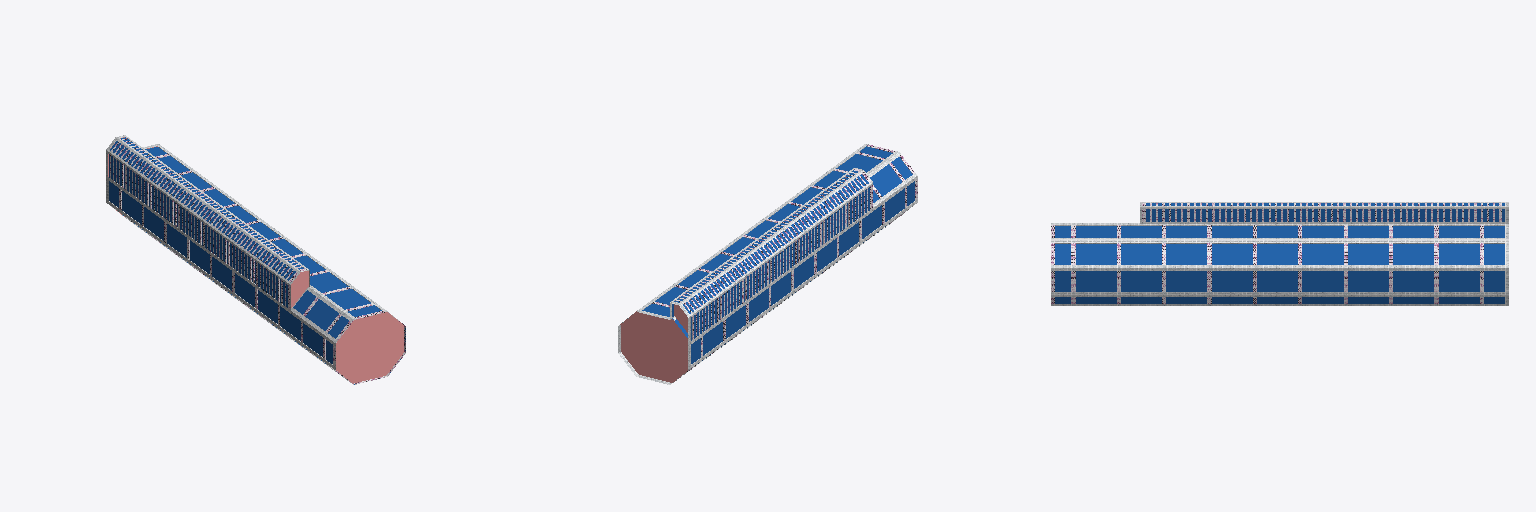
The picture shows the model from 3 angles: view 1: azimuth 30°, elevation 25°; view 2: azimuth 150°, elevation 25°; view 3: azimuth 270°, elevation 25°; orthographic projection.
Visible parts, largest first — view 1: glaz_01, wall2_01, glaz_02, slab_01, wall_01, wall_02; view 2: glaz_01, glaz_02, wall2_01, slab_01, wall_01, wall_02, wall_03; view 3: glaz_01, wall_01, wall2_01, glaz_02, wall_02.
Boxes of the visible parts, x1,y1,x2,y2 form: glaz_01: [109, 147, 405, 384]; wall2_01: [110, 138, 405, 384]; glaz_02: [109, 137, 303, 307]; slab_01: [108, 137, 403, 383]; wall_01: [109, 145, 405, 384]; wall_02: [108, 137, 308, 310]; glaz_01: [642, 146, 914, 363]; glaz_02: [672, 170, 869, 340]; wall2_01: [652, 145, 917, 373]; slab_01: [620, 304, 687, 382]; wall_01: [639, 144, 917, 380]; wall_02: [672, 168, 872, 342]; wall_03: [618, 301, 690, 384]; glaz_01: [1055, 226, 1504, 303]; wall_01: [1051, 223, 1504, 305]; wall2_01: [1051, 203, 1501, 303]; glaz_02: [1146, 203, 1504, 221]; wall_02: [1142, 202, 1504, 223].
Bounding box in the file's own units: 2164 × 2405 × 12120.
4 materials, 2 textured.